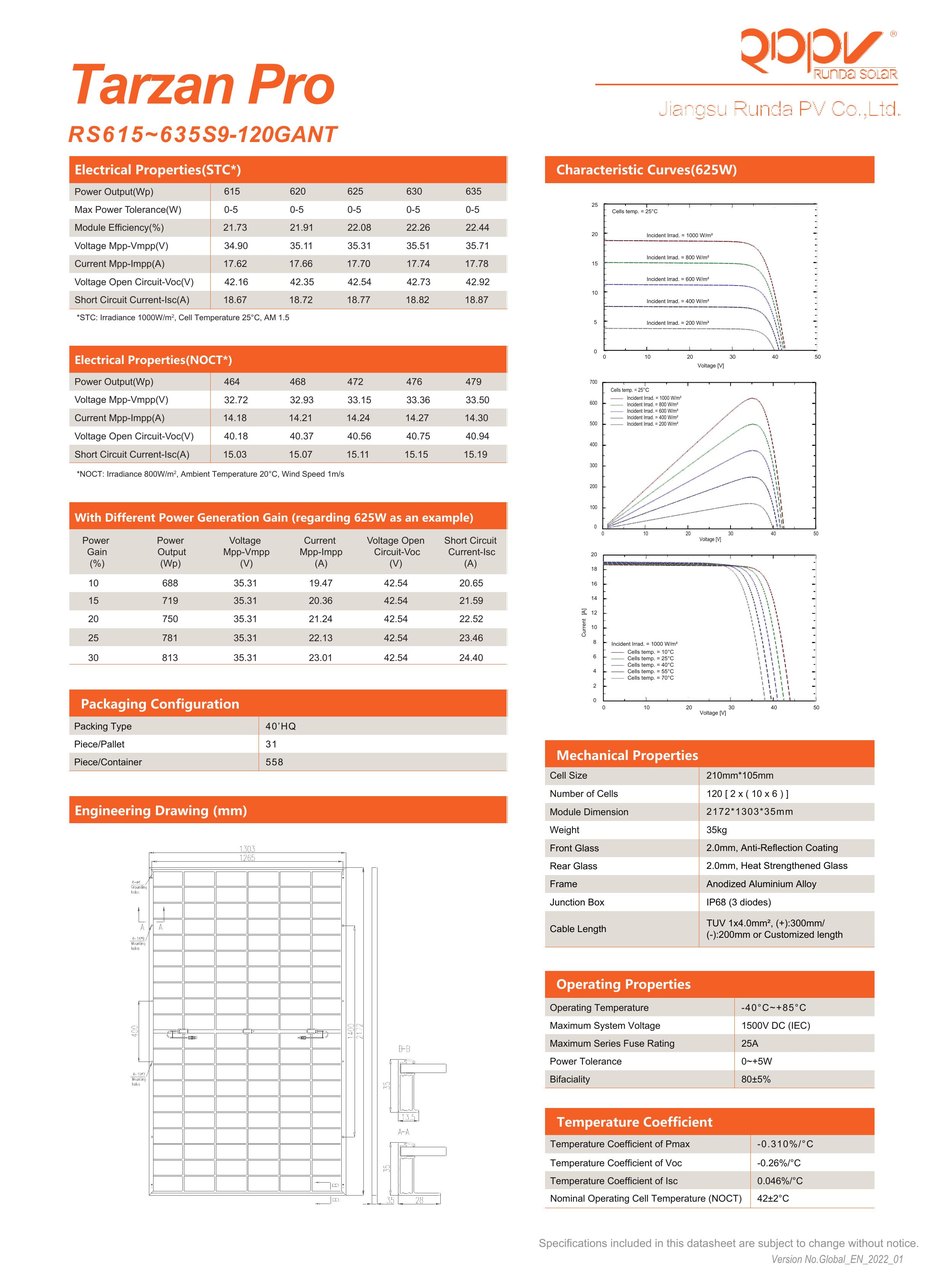table: (60, 150, 520, 329), (537, 736, 882, 952), (58, 340, 518, 484), (61, 678, 518, 784), (538, 964, 891, 1094), (539, 1103, 884, 1216)
